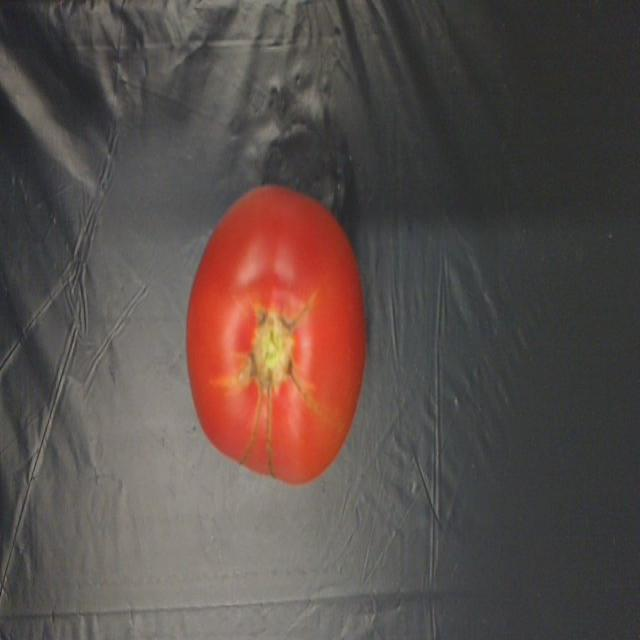kirmizi: (196, 174, 418, 506)
